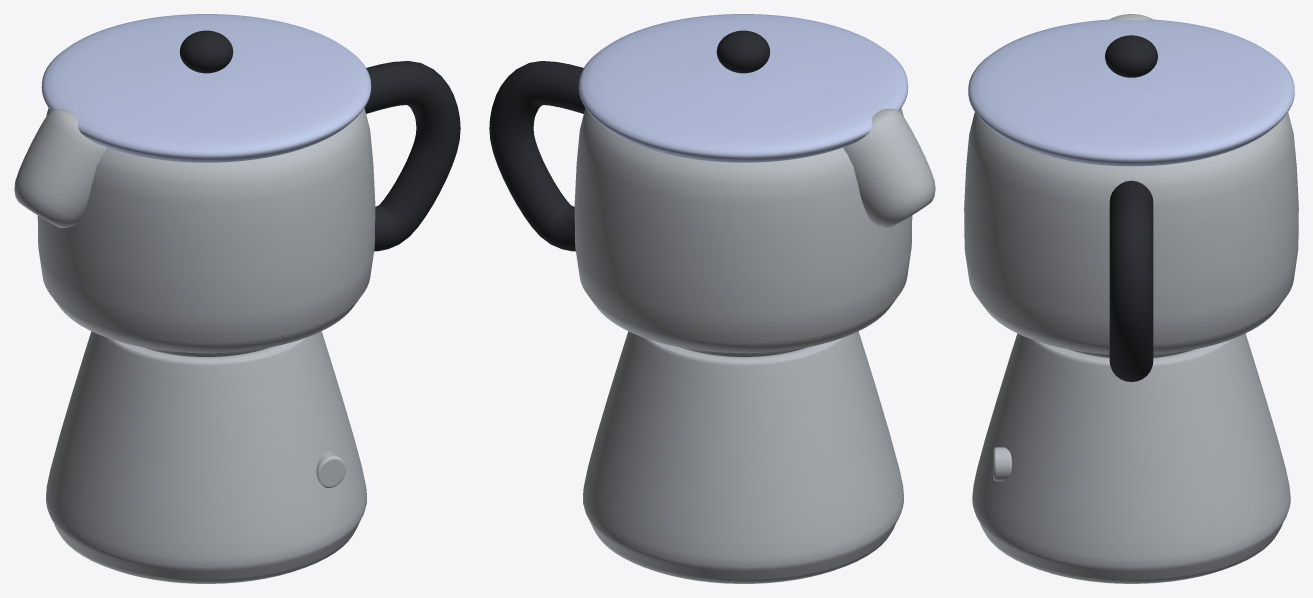
Rendered from stovetop-brewer.glb.
The picture shows the model from 3 angles, left to right: view 1: azimuth 30°, elevation 25°; view 2: azimuth 150°, elevation 25°; view 3: azimuth 270°, elevation 25°; orthographic projection.
Visible parts, largest first — view 1: sculpted-surface (×3), upper-collecting-chamber-012, hollow-pouring-spout, hinged-lid-015, safety-valve-016; view 2: sculpted-surface (×3), upper-collecting-chamber-012, hollow-pouring-spout, hinged-lid-015; view 3: sculpted-surface (×3), upper-collecting-chamber-012, hinged-lid-015, safety-valve-016.
Part boxes in pixels (bbox=[...]): sculpted-surface (×3): bbox=[37, 14, 375, 583]; upper-collecting-chamber-012: bbox=[364, 61, 460, 251]; hollow-pouring-spout: bbox=[14, 108, 106, 227]; hinged-lid-015: bbox=[179, 30, 233, 73]; safety-valve-016: bbox=[316, 451, 345, 487]; sculpted-surface (×3): bbox=[574, 14, 912, 583]; upper-collecting-chamber-012: bbox=[489, 61, 585, 251]; hollow-pouring-spout: bbox=[843, 108, 935, 227]; hinged-lid-015: bbox=[716, 30, 770, 73]; sculpted-surface (×3): bbox=[964, 19, 1298, 583]; upper-collecting-chamber-012: bbox=[1109, 180, 1153, 381]; hinged-lid-015: bbox=[1105, 35, 1157, 77]; safety-valve-016: bbox=[993, 447, 1011, 481].
Bounding box in the file's own units: 1.86 × 2 × 1.24.
